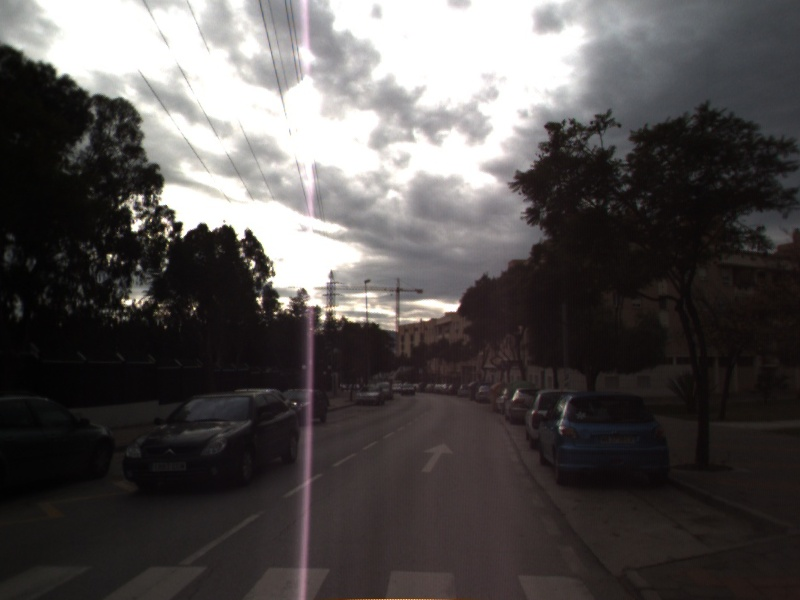STRAIGHT: (418, 441, 456, 474)
